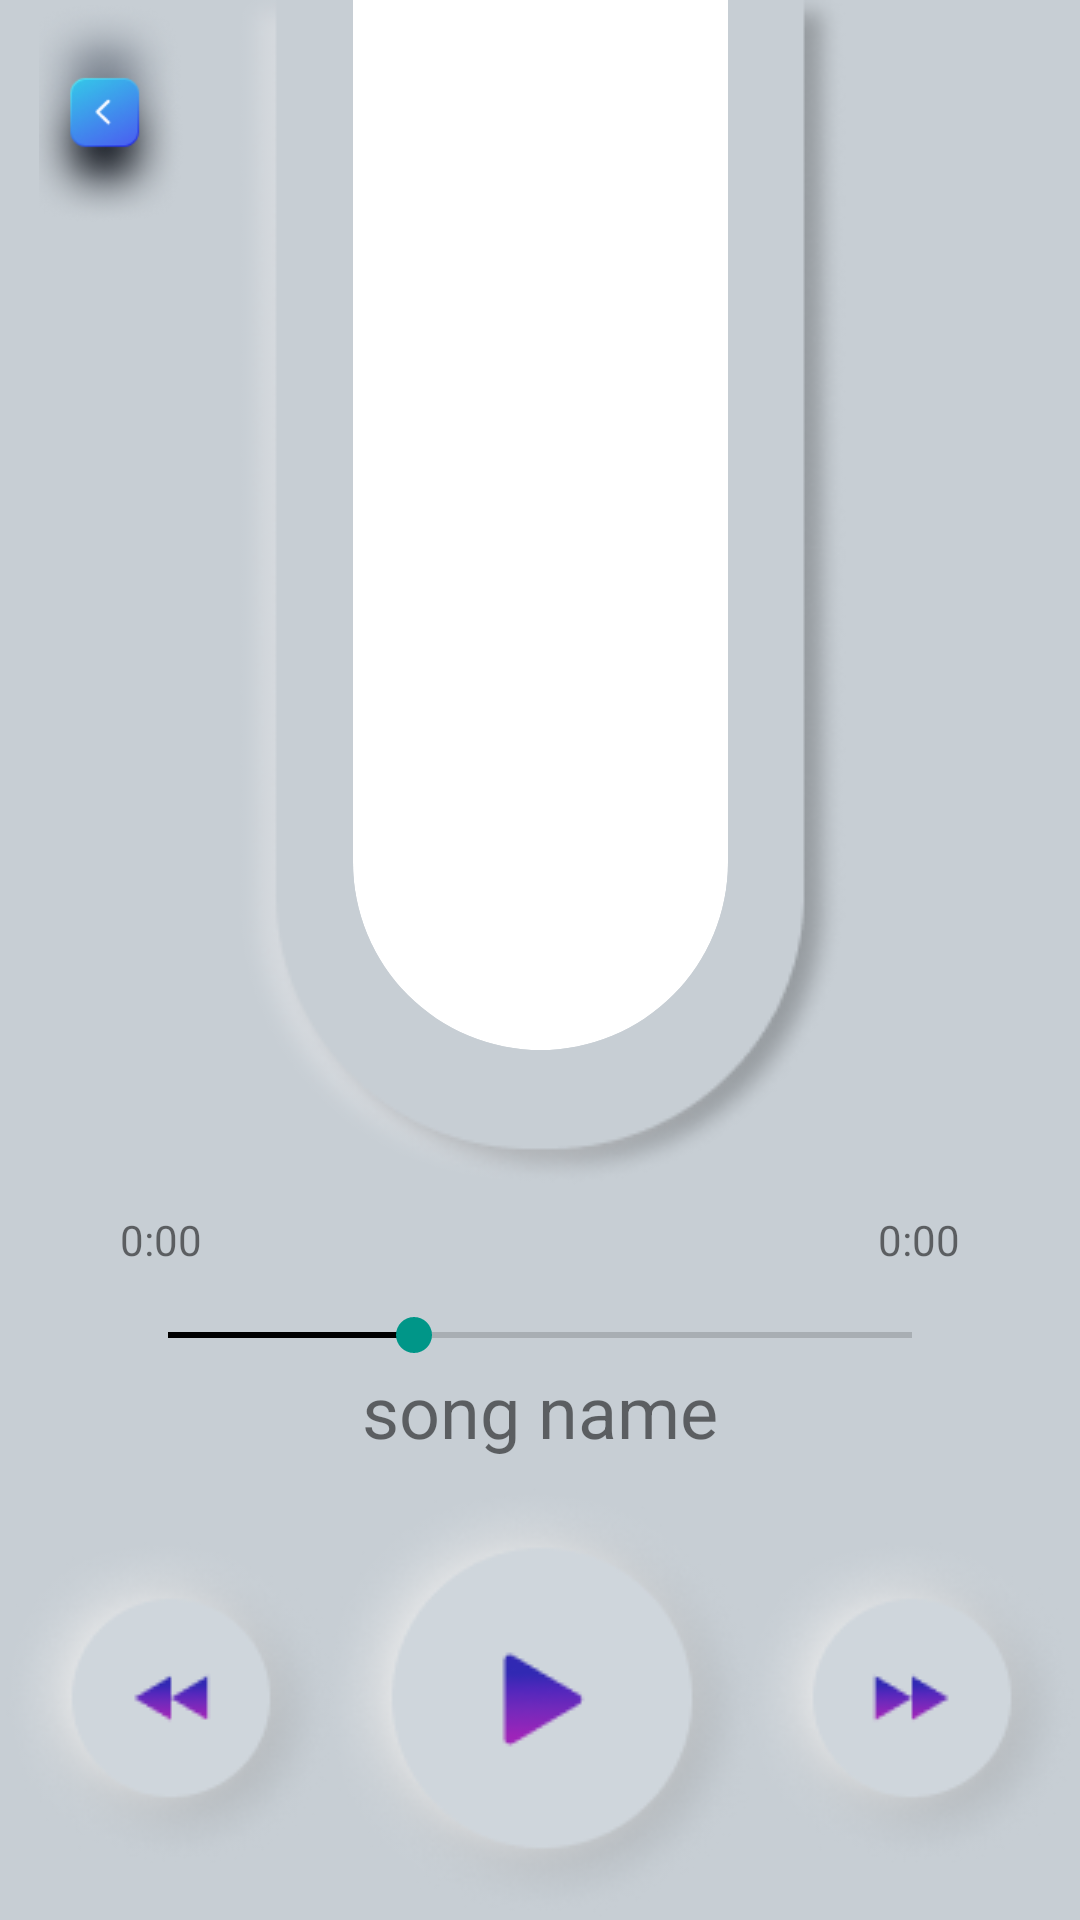

Where to tap for icons on this 1080w x 1920h app screen, as (x,y):
previusbutton: (171,1698)
